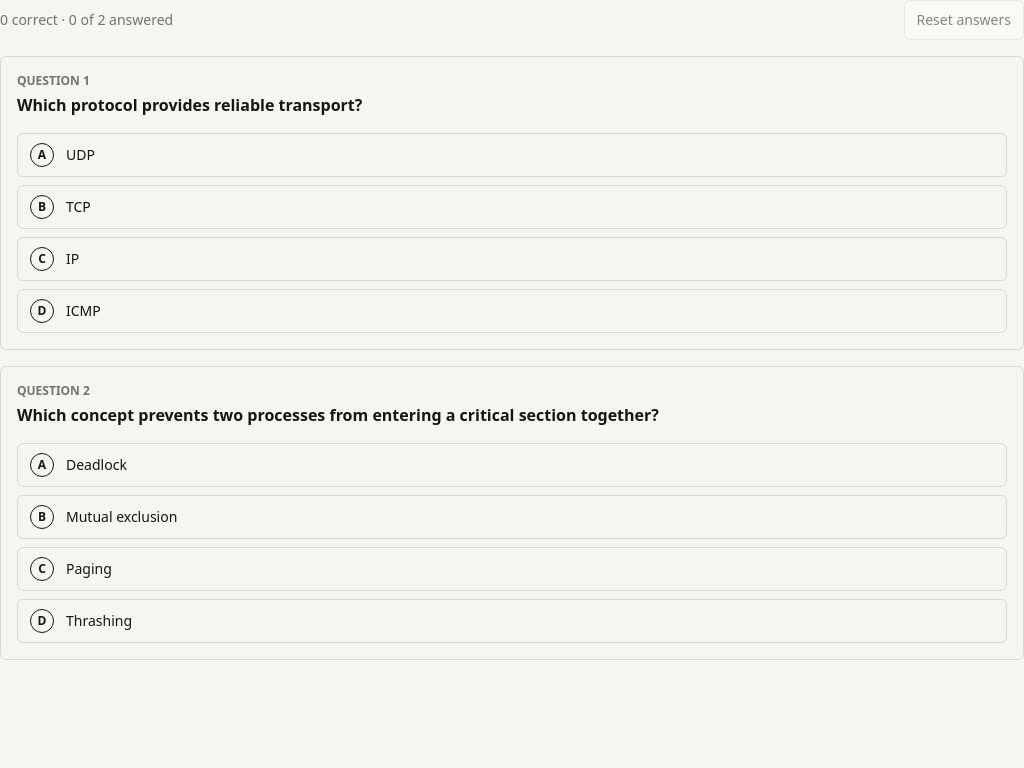
Scenario: InteractiveMcqs › shows the correct answer when the user selects a wrong option
The width and height of the screenshot is (1024, 768).
Click the button "A UDP": (42, 155) [17,133,1007,177]
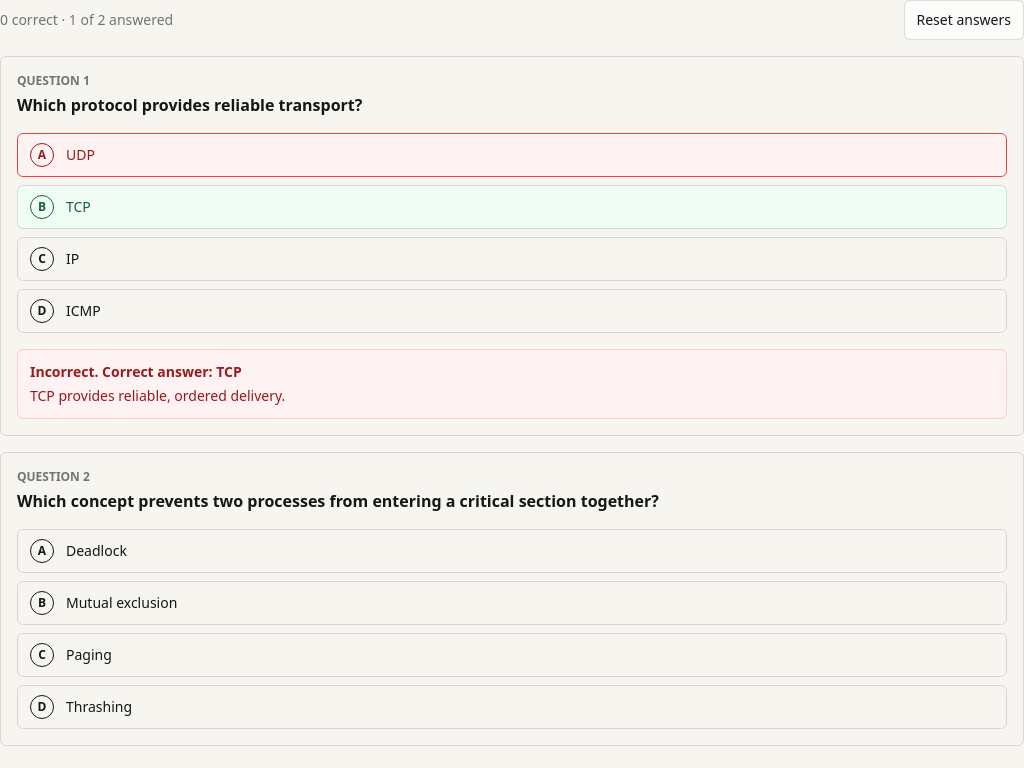
Result: the text "Incorrect. Correct answer: TCP" is shown at [30,362,242,381]
Result: the text "0 correct · 1 of 2 answered" is shown at [0,10,173,30]
Result: the text "TCP provides reliable, ordered delivery." is shown at [30,386,285,405]
